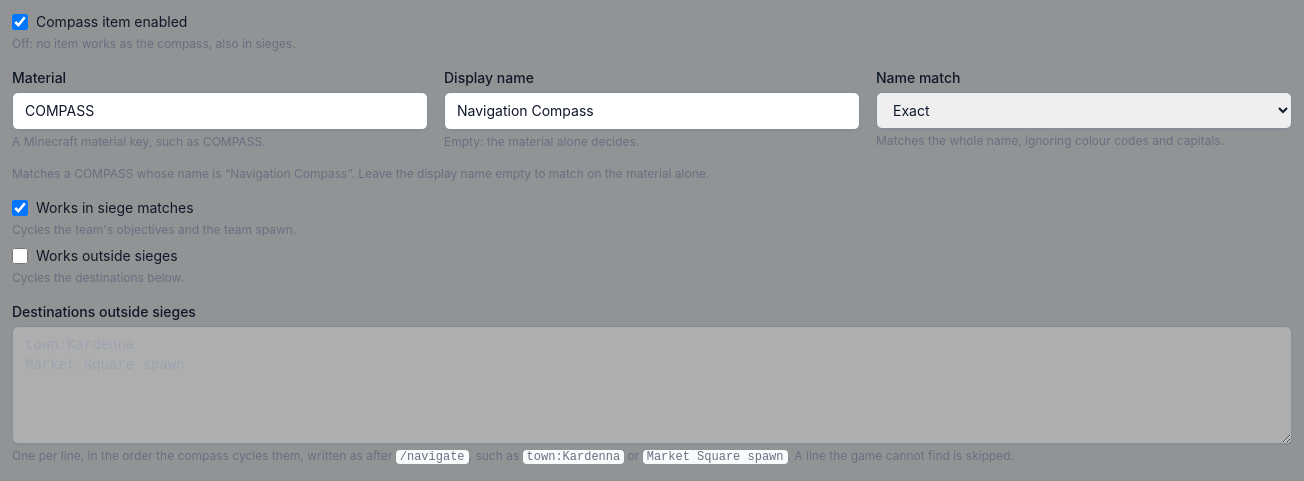
NavigationCompassCard › only lets the destinations outside sieges be edited while the compass works there
Check: the text box labelled "Destinations outside sieges" is disabled, box [12,326,1292,444]
Click the checkbox labelled "Works outside sieges" at [20, 256], box [12,248,28,264]
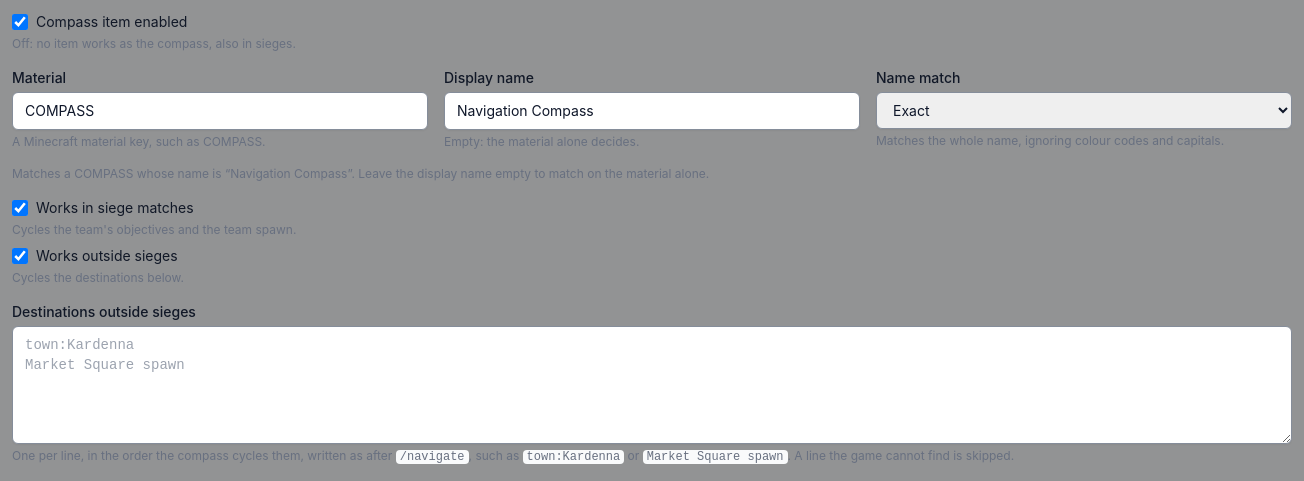
Check: the text box labelled "Destinations outside sieges" is enabled, box [12,326,1292,444]
